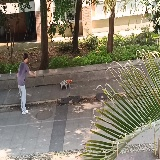fire: (66, 79, 72, 83)
